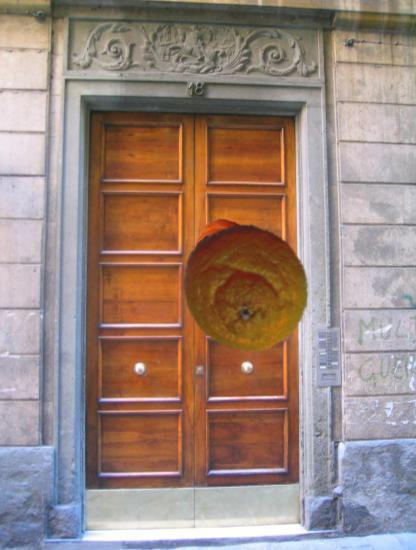Apricot: (197, 216, 256, 275)
Mandarine: (180, 222, 313, 355)
